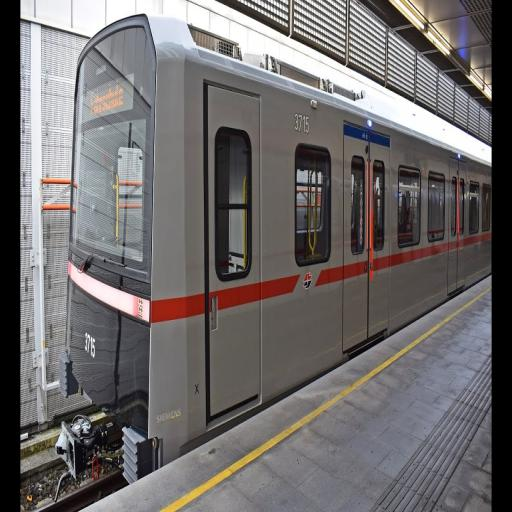X-Wagen: (59, 12, 490, 436)
